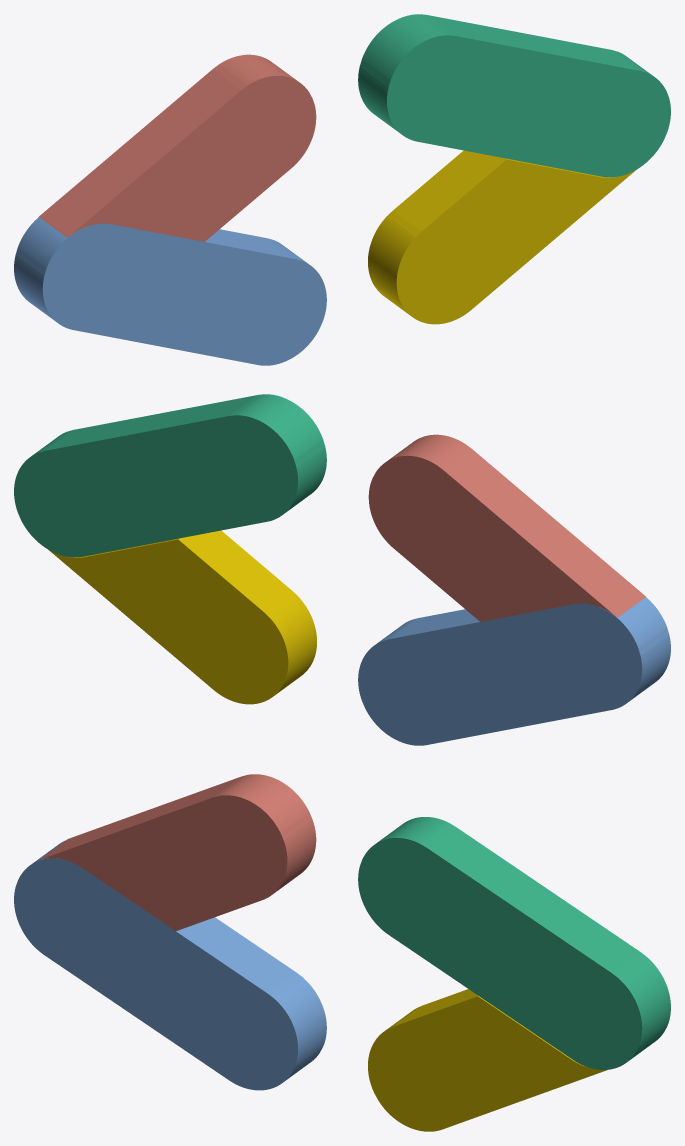
The model's file is google_dev.glb.
The picture shows the model from 3 angles, top to bottom: view 1: azimuth 30°, elevation 25°; view 2: azimuth 150°, elevation 25°; view 3: azimuth 330°, elevation 25°; orthographic projection.
Parts seen in each view (by area): view 1: Mesh_Mesh_head_geo.001_lambert2SG.001; view 2: Mesh_Mesh_head_geo.001_lambert2SG.001; view 3: Mesh_Mesh_head_geo.001_lambert2SG.001.
Part boxes in pixels (x1,y1,x2,y2): Mesh_Mesh_head_geo.001_lambert2SG.001: [14, 14, 670, 365]; Mesh_Mesh_head_geo.001_lambert2SG.001: [14, 394, 670, 745]; Mesh_Mesh_head_geo.001_lambert2SG.001: [14, 774, 670, 1131].
Size of the model in its own units: 126 by 55.51 by 10.
